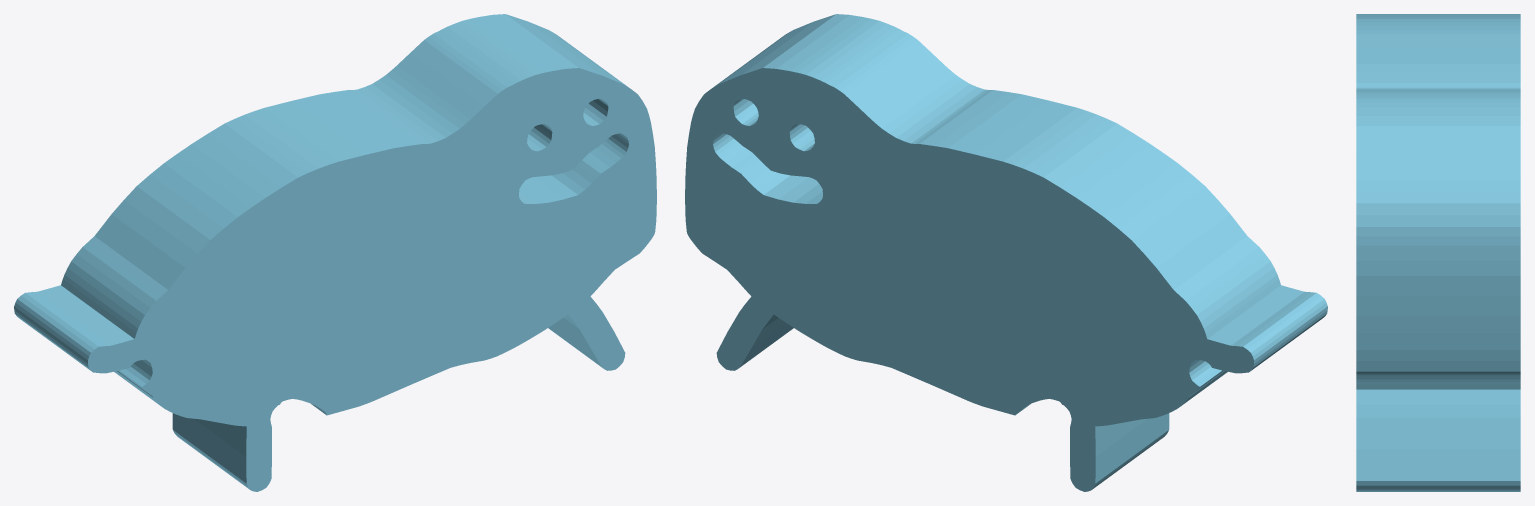
Rendered from barthelemy.obj.
The picture shows the model from 3 angles, left to right: view 1: azimuth 30°, elevation 25°; view 2: azimuth 150°, elevation 25°; view 3: azimuth 270°, elevation 25°; orthographic projection. The views are drawn at different scales.
Parts seen in each view (by area): view 1: obj_0; view 2: obj_0; view 3: obj_0.
Part boxes in pixels (<box>): obj_0: <box>14,14,656,491</box>; obj_0: <box>685,14,1327,491</box>; obj_0: <box>1356,14,1520,491</box>.
Size of the model in its own units: 44.53 by 26.12 by 10.
